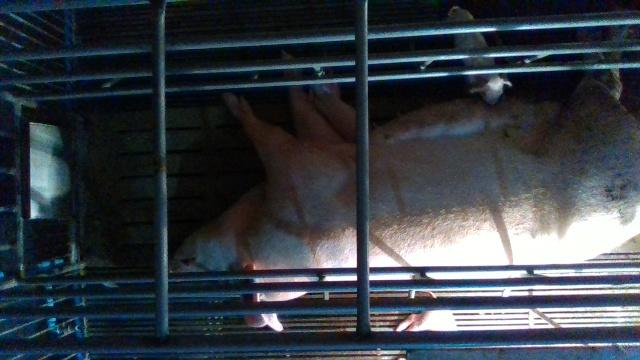piglet: (448, 6, 512, 105)
sow-sleep-lactate: (171, 56, 640, 331)
